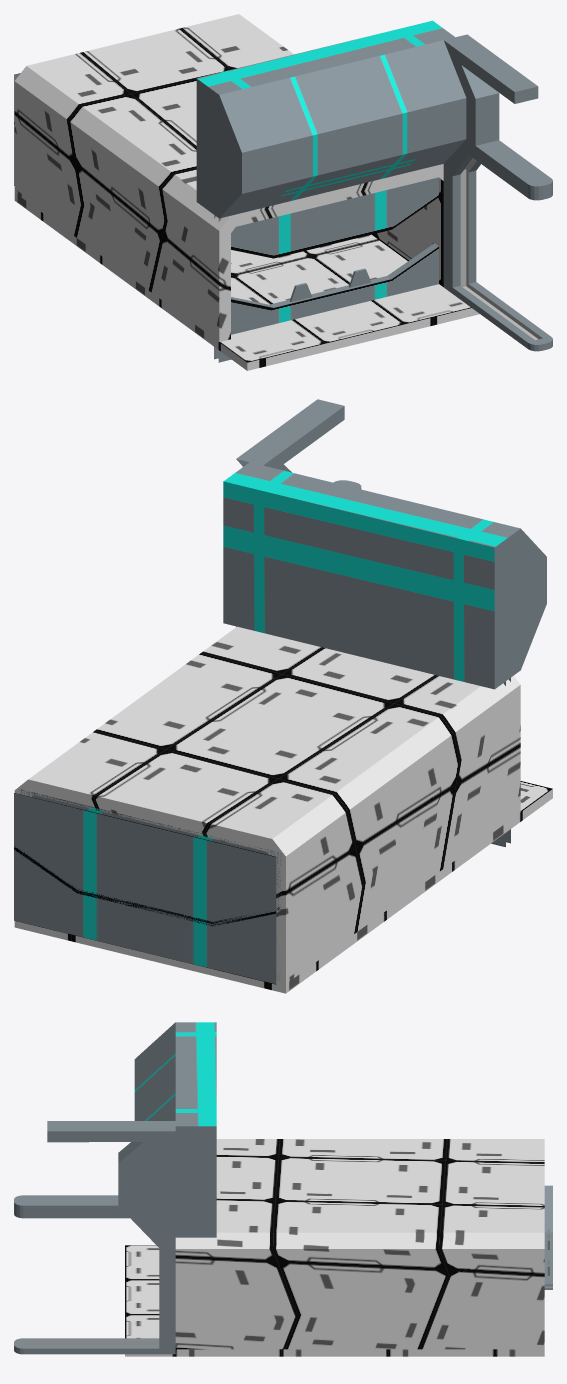
The model's file is BackGroundLaserWall.fbx.
3 renders of one model, top to bottom at view 1: azimuth 30°, elevation 25°; view 2: azimuth 150°, elevation 25°; view 3: azimuth 270°, elevation 25°, orthographic. The views are drawn at different scales.
Parts seen in each view (by area): view 1: geo1; view 2: geo1; view 3: geo1.
Part boxes in pixels (x1,y1,x2,y2): geo1: [14, 14, 552, 370]; geo1: [14, 399, 552, 993]; geo1: [14, 1022, 552, 1356].
Size of the model in its own units: 6.3 by 6.6 by 13.14.
